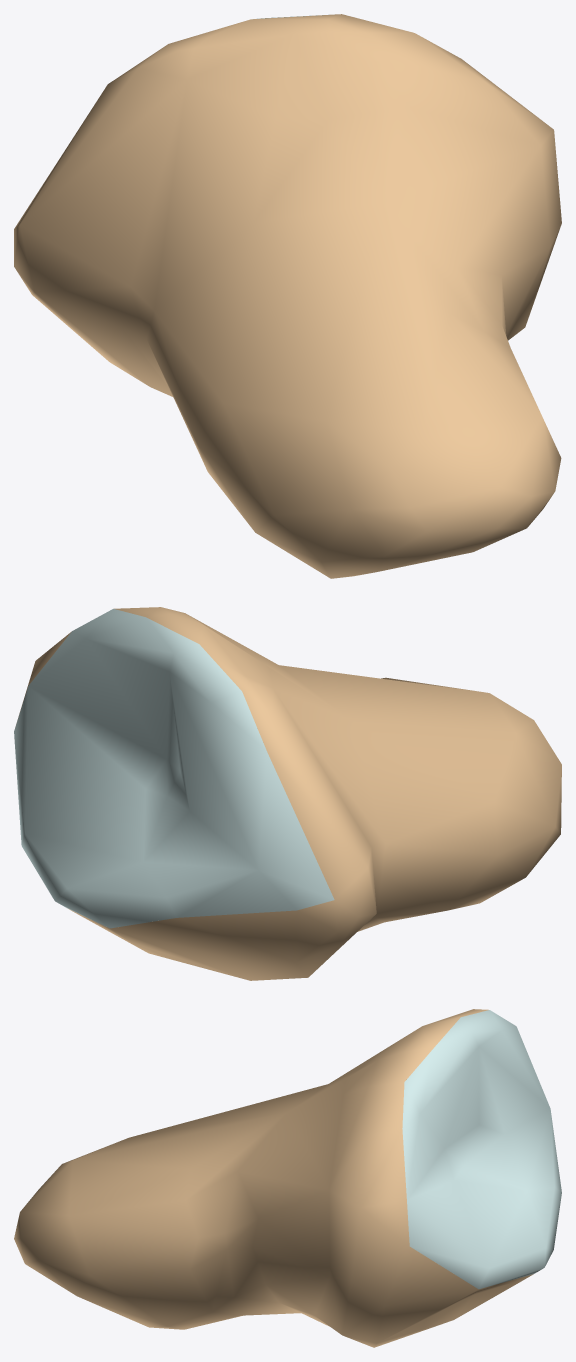
Rendered from Distal_phalanx_fourth_finger_foot_right.glb.
3 views of the same model, one above another, from view 1: azimuth 30°, elevation 25°; view 2: azimuth 150°, elevation 25°; view 3: azimuth 270°, elevation 25° (orthographic). The views are drawn at different scales.
Visible parts, largest first — view 1: Distal_phalanx_of_4th_finger_of_foot.r_Generated_Mesh_From_X; view 2: Distal_phalanx_of_4th_finger_of_foot.r_Generated_Mesh_From_X; view 3: Distal_phalanx_of_4th_finger_of_foot.r_Generated_Mesh_From_X.
Boxes of the visible parts, box(x1,y1,x2,y2) form: Distal_phalanx_of_4th_finger_of_foot.r_Generated_Mesh_From_X: box(14, 14, 561, 578); Distal_phalanx_of_4th_finger_of_foot.r_Generated_Mesh_From_X: box(14, 607, 561, 980); Distal_phalanx_of_4th_finger_of_foot.r_Generated_Mesh_From_X: box(14, 1009, 561, 1347).
Bounding box in the file's own units: 0.00879 × 0.00733 × 0.0117.
